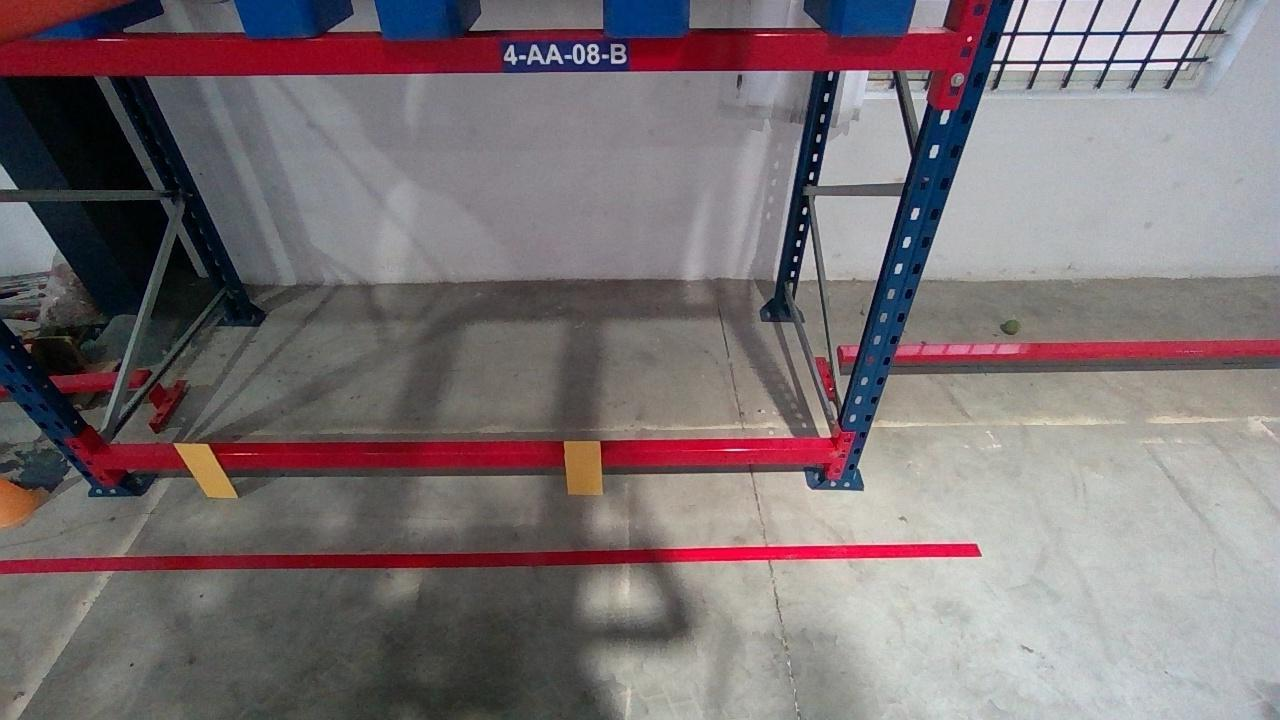h_rack: (4, 30, 956, 77), (89, 447, 836, 470)
orange_strip: (172, 444, 240, 498), (561, 441, 603, 494)
red_line: (0, 543, 981, 569)
small_pallet: (378, 0, 915, 31)
